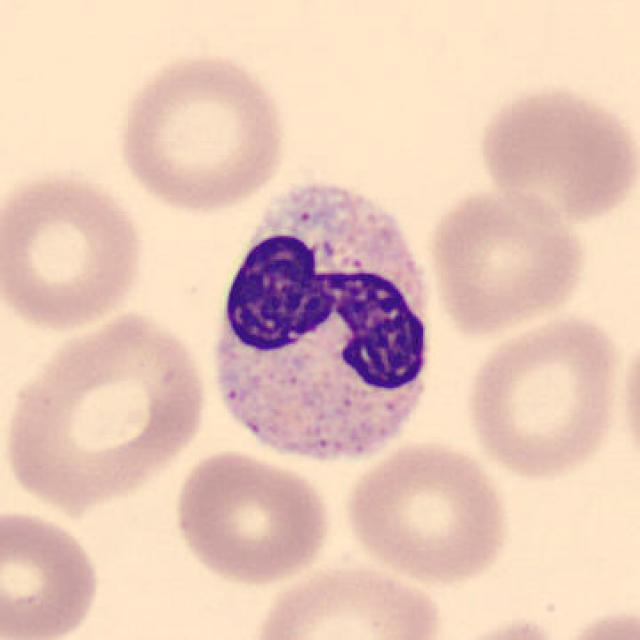Neutrophil: (196, 166, 446, 481)
RBC: (0, 307, 213, 515), (112, 48, 293, 215), (460, 310, 626, 483), (340, 437, 516, 587), (0, 164, 149, 337), (423, 184, 590, 338), (473, 79, 636, 226), (169, 448, 336, 587), (246, 559, 447, 640), (0, 504, 105, 640), (428, 613, 572, 640), (617, 314, 640, 478), (551, 601, 638, 640)
